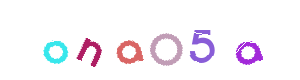0: (109, 0, 189, 80)
5: (125, 0, 205, 80)
A: (89, 0, 169, 80), (184, 0, 264, 80)
N: (50, 0, 130, 80)
O: (15, 0, 95, 80)
